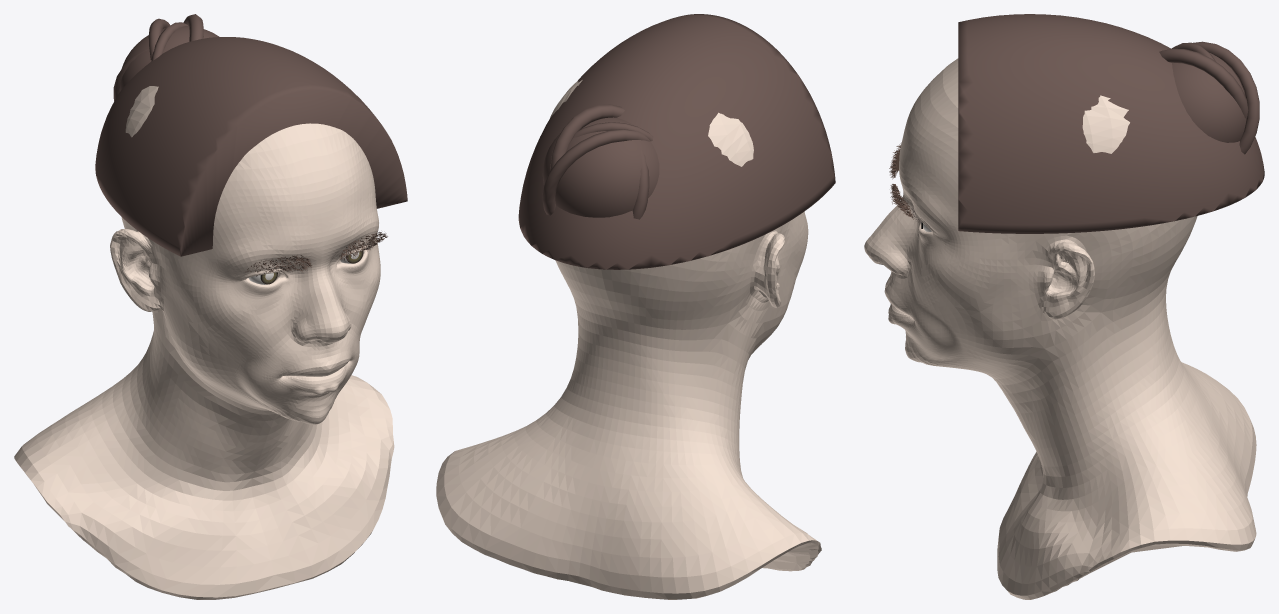
File: bust.glb
3 renders of one model, left to right at view 1: azimuth 30°, elevation 25°; view 2: azimuth 150°, elevation 25°; view 3: azimuth 270°, elevation 25°, orthographic. The views are drawn at different scales.
Visible parts, largest first — view 1: bust_skin, bust_hair, eyebrow_hair; view 2: bust_skin, bust_hair; view 3: bust_skin, bust_hair.
Part boxes in pixels (x1,y1,x2,y2): bust_skin: [14, 86, 394, 599]; bust_hair: [95, 14, 407, 256]; eyebrow_hair: [245, 232, 387, 272]; bust_skin: [436, 80, 821, 599]; bust_hair: [518, 14, 835, 269]; bust_skin: [864, 58, 1256, 599]; bust_hair: [958, 14, 1264, 233].
Size of the model in its own units: 0.2937 by 0.415 by 0.2804.
7 materials, 2 textured.
